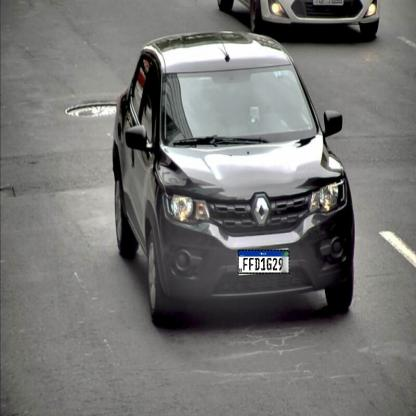PlacaM: (238, 249, 290, 274)
